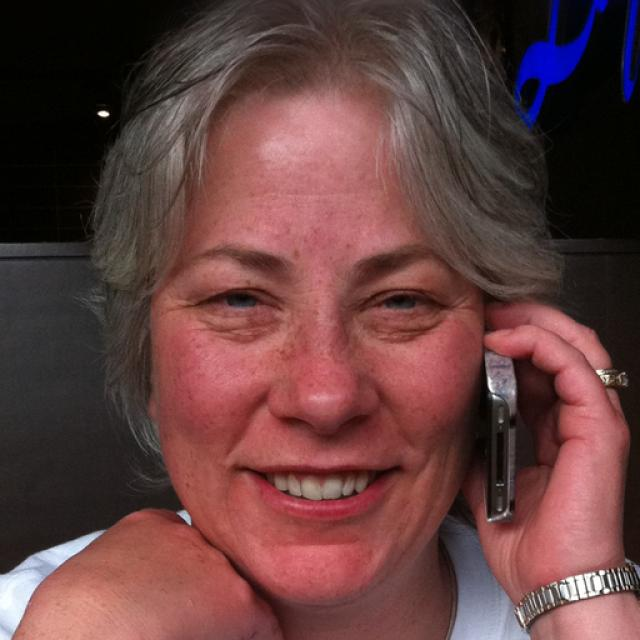Pigmentation: (271, 313, 361, 367), (280, 218, 355, 266), (289, 369, 358, 397)
